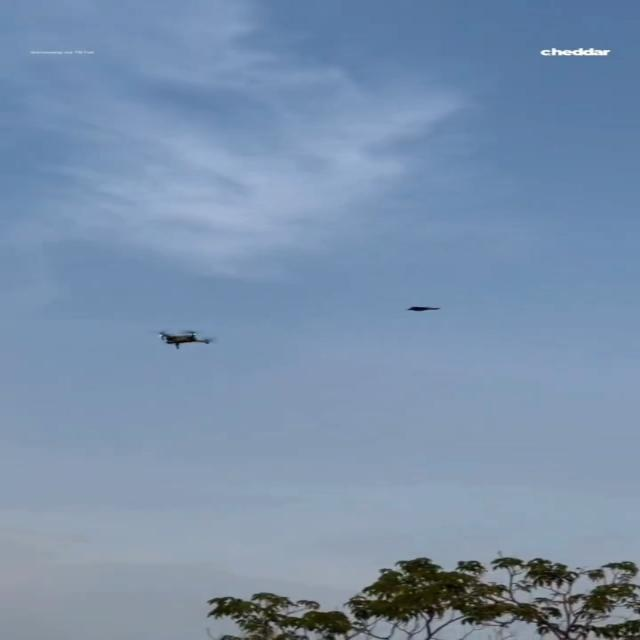bird: (405, 306, 440, 312)
drone: (156, 329, 212, 349)
